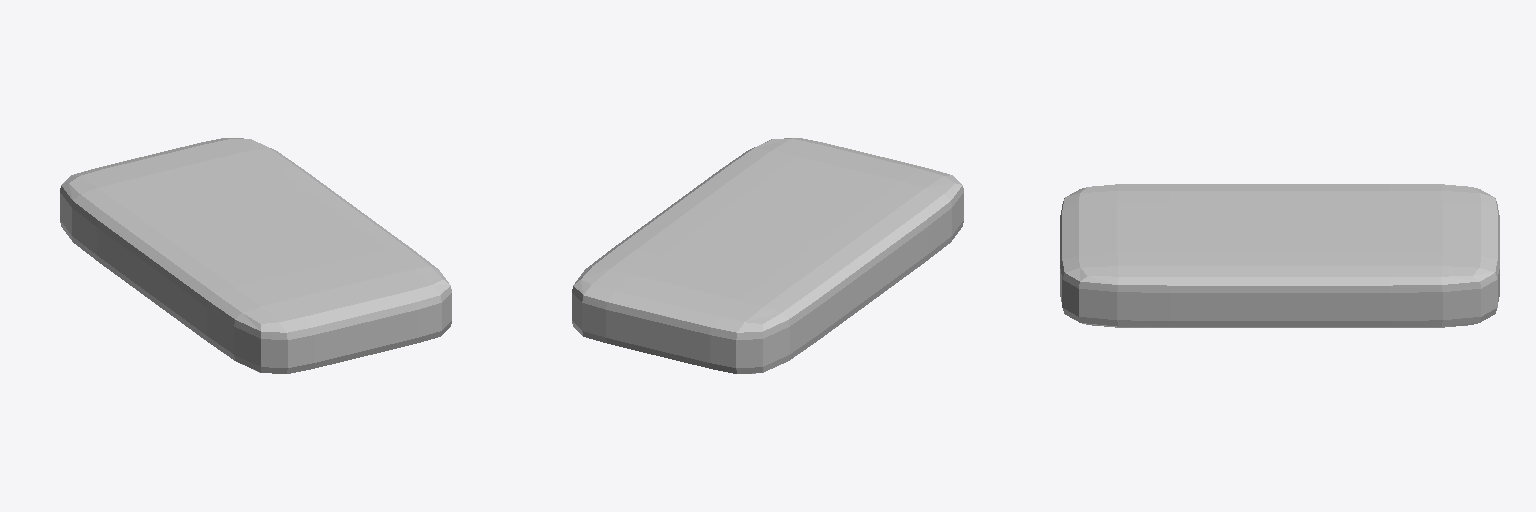
The model's file is pillow.obj.
The picture shows the model from 3 angles: view 1: azimuth 30°, elevation 25°; view 2: azimuth 150°, elevation 25°; view 3: azimuth 270°, elevation 25°; orthographic projection.
Visible parts, largest first — view 1: Cube.023_Cube.028; view 2: Cube.023_Cube.028; view 3: Cube.023_Cube.028.
Boxes of the visible parts, <box> form: Cube.023_Cube.028: <box>60,138,451,373</box>; Cube.023_Cube.028: <box>572,138,963,373</box>; Cube.023_Cube.028: <box>1060,184,1499,327</box>.
Bounding box in the file's own units: 0.8976 × 0.2313 × 1.64.